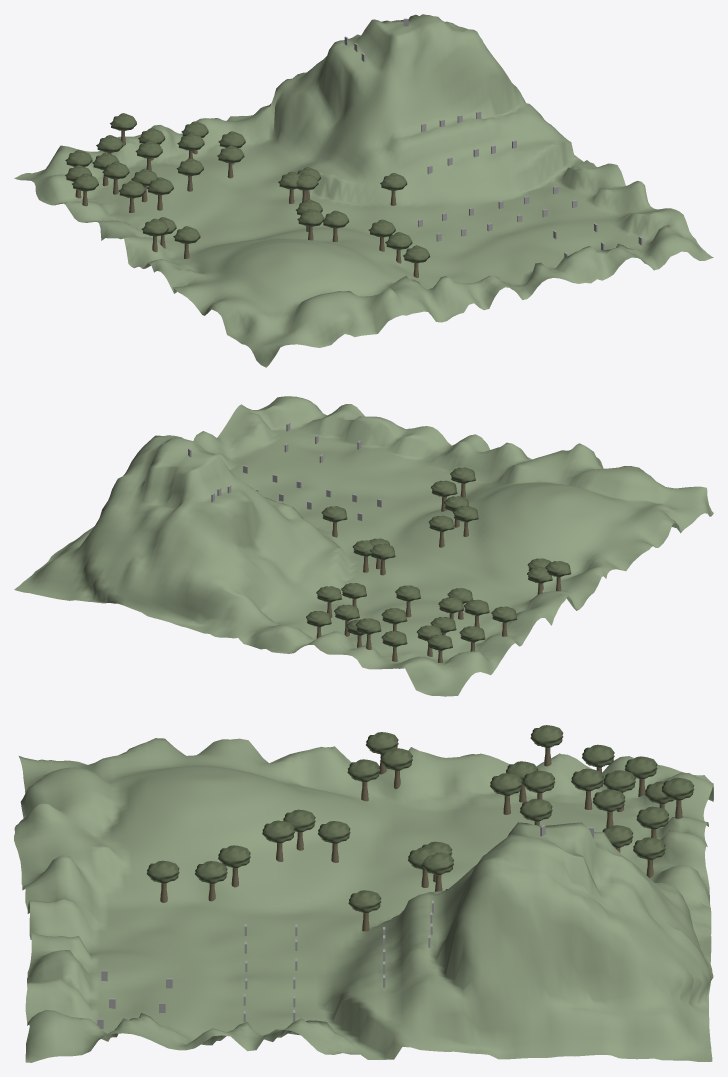
The model's file is CemeteryTerrain.fbx.
The picture shows the model from 3 angles, top to bottom: view 1: azimuth 30°, elevation 25°; view 2: azimuth 150°, elevation 25°; view 3: azimuth 270°, elevation 25°; orthographic projection. The views are drawn at different scales.
Visible parts, largest first — view 1: pGround; view 2: pGround; view 3: pGround, pTree30, pTree1, pTree4, pTree3, pTree10, pTree15, pTree20, pTree18, pTree9, pTree14, pTree23 (+13 smaller).
Boxes of the visible parts, left/top/right/bottom form: pGround: left=14, top=14, right=713, bottom=367; pGround: left=14, top=396, right=713, bottom=696; pGround: left=14, top=738, right=713, bottom=1062; pTree30: left=347, top=759, right=380, bottom=801; pTree1: left=146, top=860, right=179, bottom=902; pTree4: left=348, top=890, right=381, bottom=931; pTree3: left=218, top=845, right=250, bottom=887; pTree10: left=318, top=821, right=350, bottom=862; pTree15: left=530, top=725, right=563, bottom=766; pTree20: left=661, top=777, right=694, bottom=818; pTree18: left=490, top=773, right=522, bottom=814; pTree9: left=262, top=820, right=294, bottom=861; pTree14: left=571, top=768, right=603, bottom=809; pTree23: left=633, top=837, right=665, bottom=878.
Size of the model in its own units: 482 by 126 by 479.
